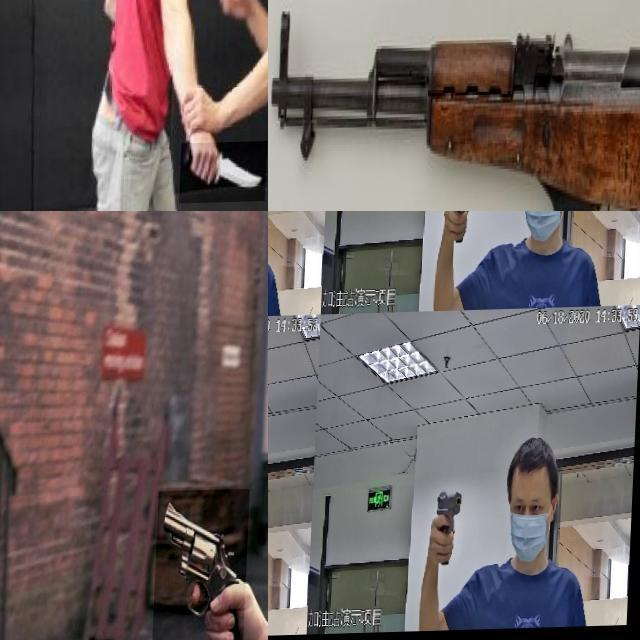-: (183, 143, 268, 205)
gun-knife-thesis - v11 Yolov5 augmented: (268, 0, 640, 211), (155, 490, 252, 640), (438, 490, 466, 570), (268, 489, 284, 569), (451, 211, 474, 251), (268, 211, 283, 261)
